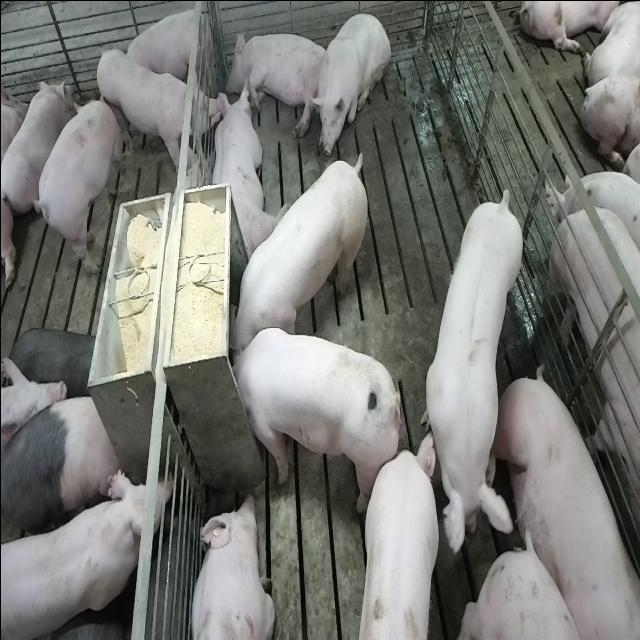Feeding: (220, 327, 397, 509), (230, 142, 372, 358)
Lateral_lying: (224, 27, 330, 138)
Sitting: (311, 9, 390, 159)
Standing: (544, 199, 640, 639), (420, 190, 526, 578), (2, 465, 162, 640), (1, 386, 120, 548), (354, 444, 438, 640), (94, 48, 222, 176), (32, 97, 122, 268)
Sternal_lying: (208, 83, 282, 265), (186, 490, 272, 640), (1, 74, 70, 222), (121, 5, 212, 91)
